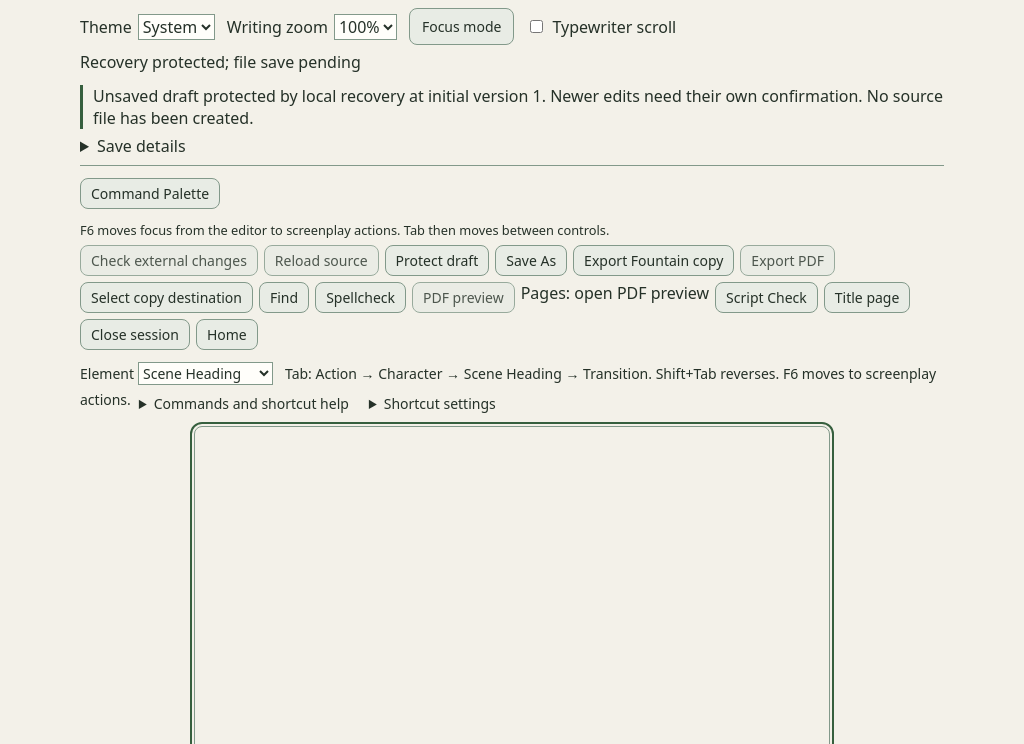
Test case: M4-02 Home entry and switching › returns Home only after native protection and release; failure retains editor
This screenshot has width=1024, height=744.
Expected: the text "Unsaved draft protected" is shown, [93, 85, 943, 129]
Click the button "Home".
click(227, 334)  # box [196, 319, 258, 350]
(page scrolled)
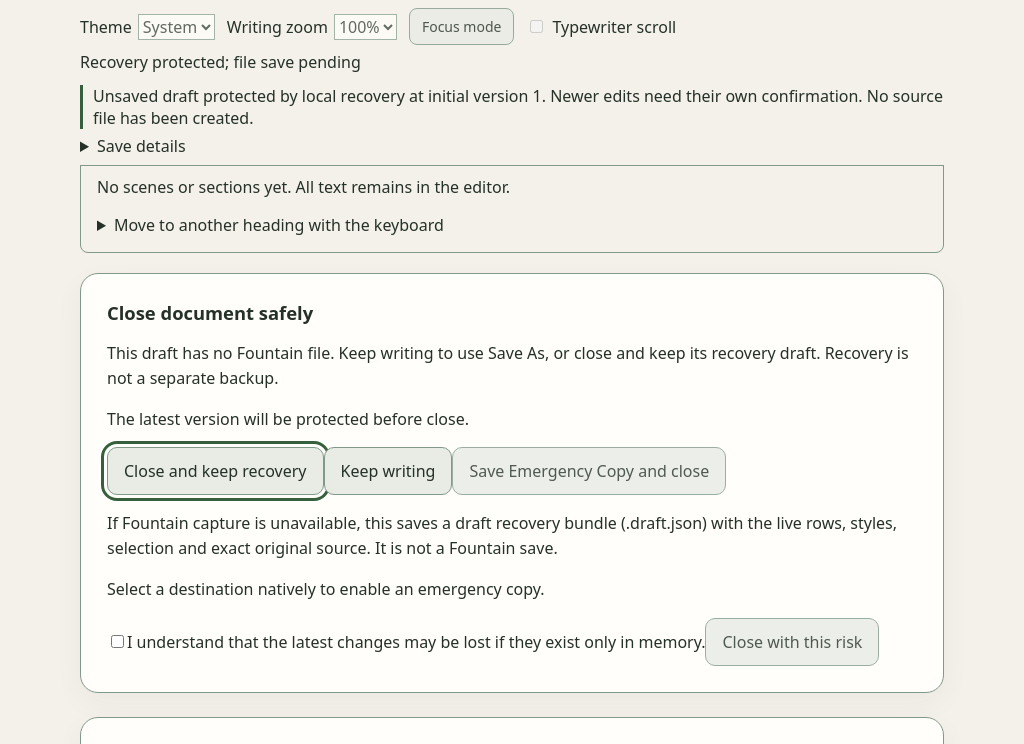
Click the button "Close and keep recovery".
click(215, 471)  # box [107, 447, 324, 495]
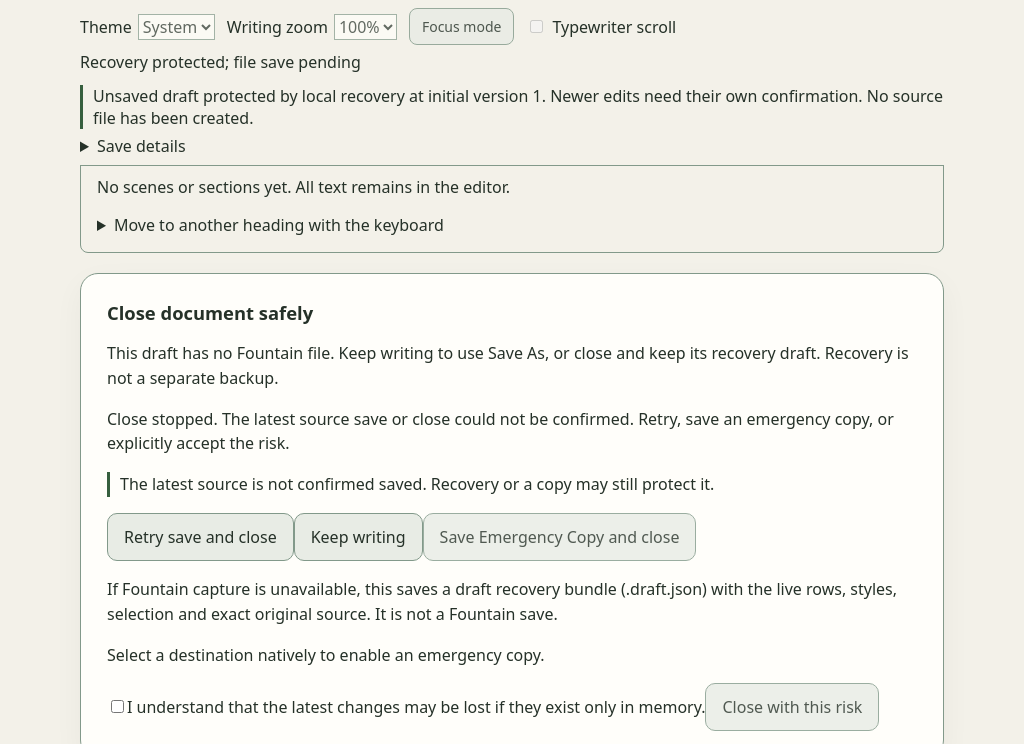
Expected: the text "Close stopped." is shown, [107, 408, 894, 454]
